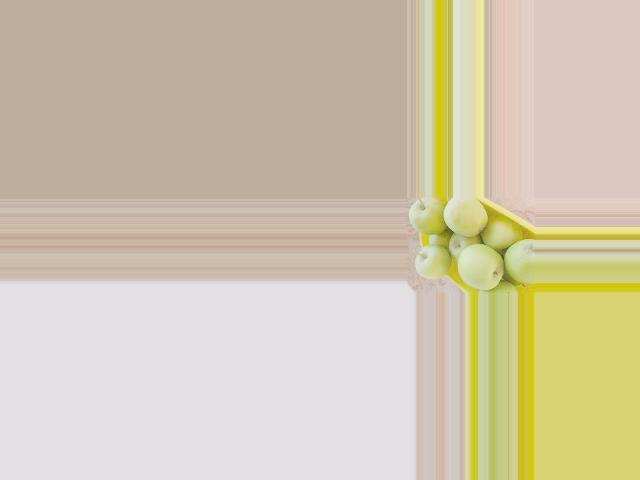apple: (483, 210, 524, 251)
